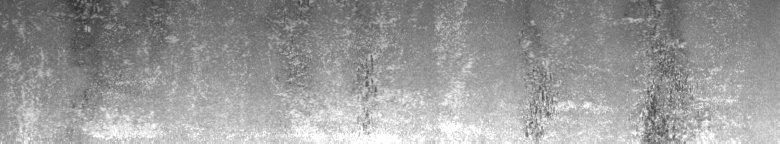hc: (627, 18, 686, 136)
